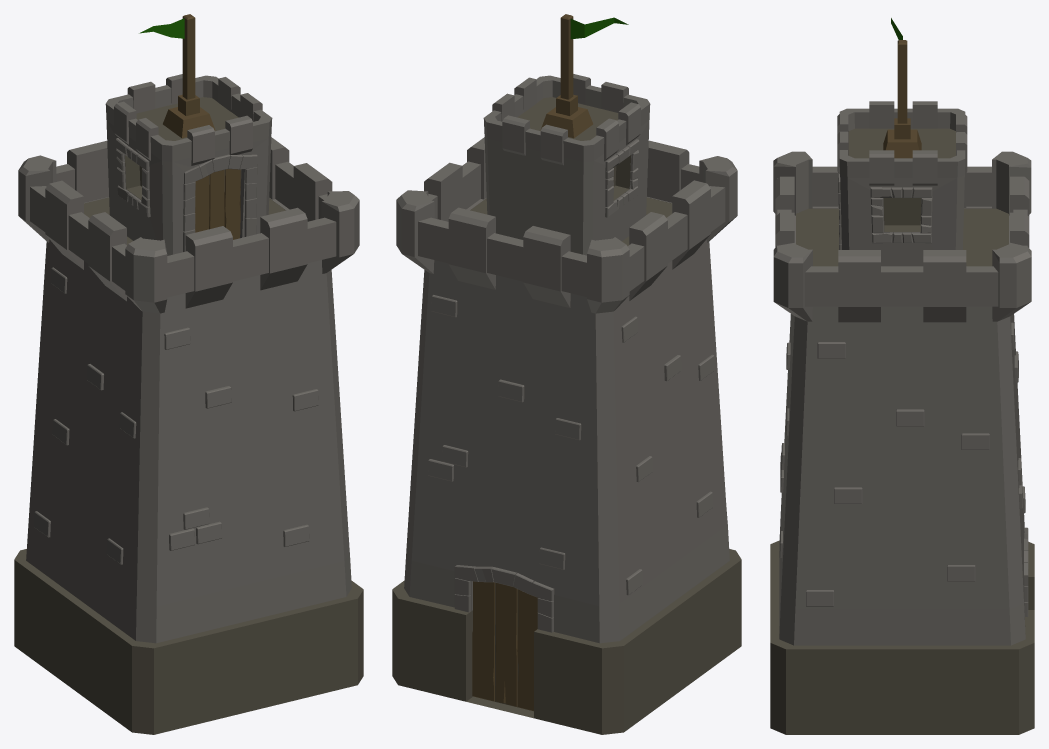
File: Tower.fbx
The picture shows the model from 3 angles, left to right: view 1: azimuth 30°, elevation 25°; view 2: azimuth 150°, elevation 25°; view 3: azimuth 270°, elevation 25°; orthographic projection.
Parts seen in each view (by area): view 1: Cube, Cube.007, Cube.008, Cube.011, Plane.001, Cube.047, Cube.048, Cube.012, Cube.002, Cube.004, Cube.010, Cube.003 (+8 smaller); view 2: Cube, Plane, Cube.010, Cube.009, Cube.003, Cube.001, Cube.048, Cube.013, Cube.004, Cube.002, Cube.007, Cube.011 (+9 smaller); view 3: Cube, Cube.006, Cube.005, Cube.013, Cube.012, Cube.050, Cube.048, Cube.011, Cube.003, Cube.045, Cube.046, Cube.041 (+12 smaller).
Boxes of the visible parts, left/top/right/bottom form: Cube: left=14, top=75, right=363, bottom=734; Cube.007: left=185, top=226, right=232, bottom=308; Cube.008: left=260, top=207, right=307, bottom=290; Cube.011: left=125, top=237, right=167, bottom=313; Plane.001: left=195, top=169, right=240, bottom=239; Cube.047: left=183, top=154, right=257, bottom=251; Cube.048: left=163, top=14, right=214, bottom=138; Cube.012: left=321, top=191, right=359, bottom=273; Cube.002: left=45, top=180, right=83, bottom=269; Cube.004: left=88, top=212, right=126, bottom=301; Cube.010: left=67, top=140, right=108, bottom=202; Cube.003: left=18, top=155, right=56, bottom=242; Cube: left=392, top=75, right=741, bottom=734; Plane: left=472, top=581, right=537, bottom=710; Cube.010: left=523, top=226, right=570, bottom=307; Cube.009: left=448, top=207, right=495, bottom=289; Cube.003: left=587, top=237, right=629, bottom=313; Cube.001: left=454, top=565, right=554, bottom=632; Cube.048: left=541, top=14, right=592, bottom=138; Cube.013: left=396, top=190, right=434, bottom=273; Cube.004: left=672, top=180, right=710, bottom=269; Cube.002: left=629, top=212, right=667, bottom=300; Cube.007: left=647, top=140, right=689, bottom=202; Cube.011: left=699, top=156, right=737, bottom=242; Cube: left=770, top=108, right=1034, bottom=734; Cube.006: left=923, top=250, right=966, bottom=322; Cube.005: left=838, top=250, right=880, bottom=322; Cube.013: left=992, top=242, right=1031, bottom=321; Cube.012: left=773, top=242, right=812, bottom=321; Cube.050: left=870, top=187, right=932, bottom=243; Cube.048: left=883, top=40, right=921, bottom=158; Cube.011: left=773, top=151, right=812, bottom=215; Cube.003: left=992, top=151, right=1031, bottom=215; Cube.045: left=869, top=150, right=894, bottom=185; Cube.046: left=912, top=150, right=937, bottom=185; Cube.041: left=912, top=101, right=937, bottom=128.
Bounding box in the file's own units: 1234 × 3306 × 1234.
